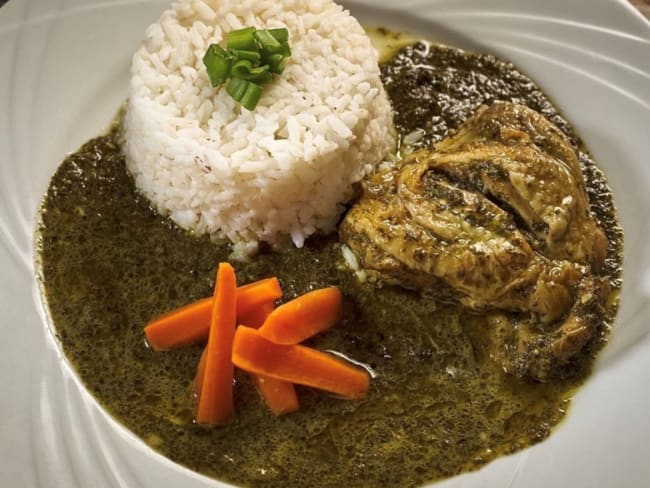carotte: (208, 307, 320, 387)
feuille de manioc pilée: (82, 168, 132, 317)
legume: (230, 41, 268, 103)
poitrine de porc: (379, 210, 606, 295)
riz: (141, 43, 211, 198)
